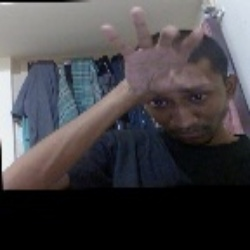hand: (96, 15, 213, 87)
